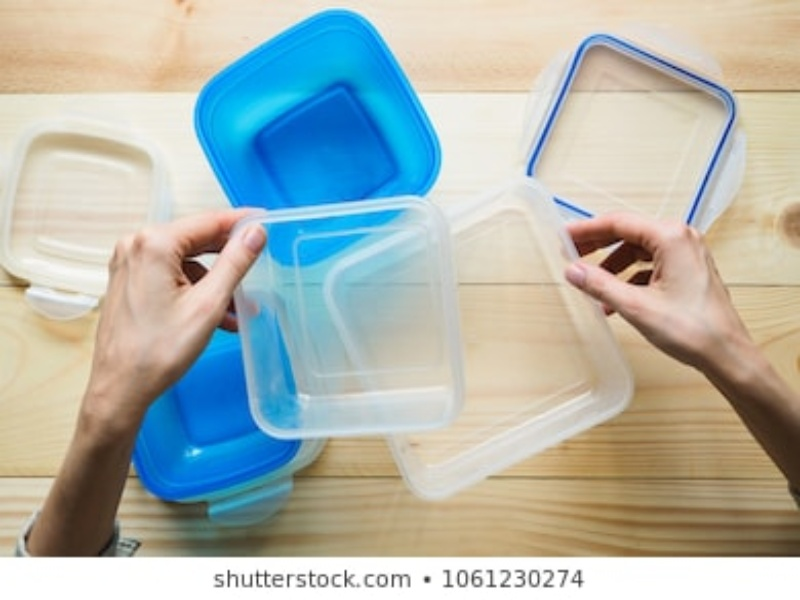plastic-container: (324, 179, 652, 503), (189, 8, 465, 264), (231, 189, 471, 444), (509, 24, 753, 253), (122, 281, 305, 516), (1, 116, 168, 316)
